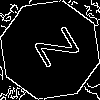Z: (25, 25, 80, 75)
